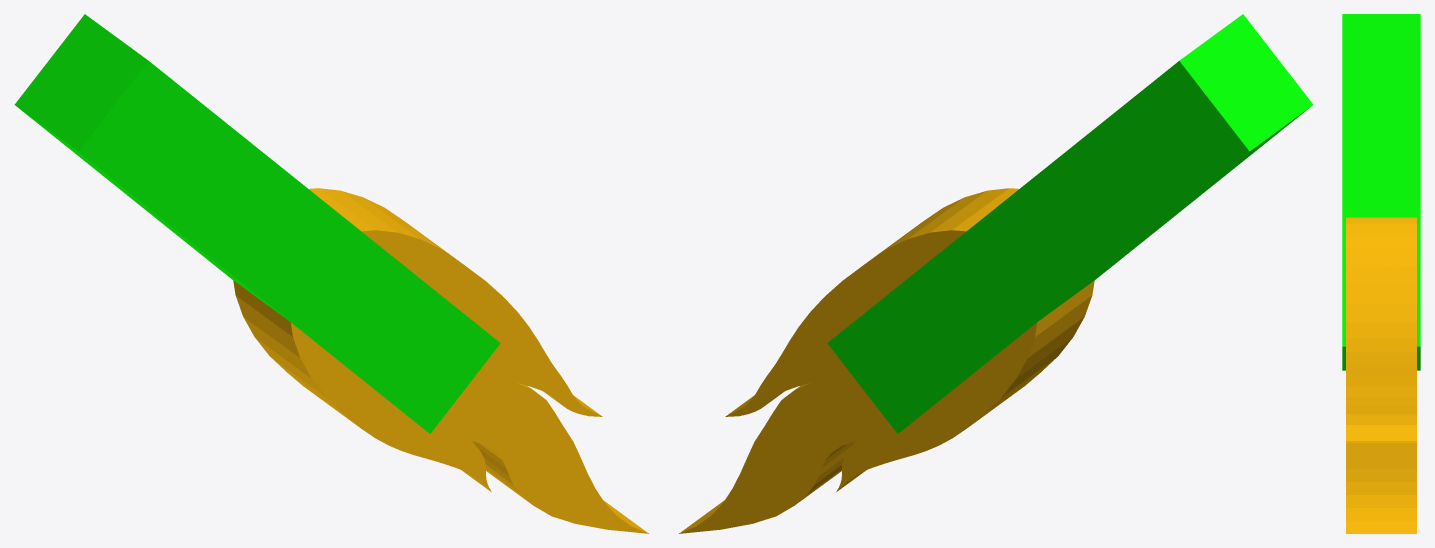
Rendered from rapidFirePowerup.fbx.
The picture shows the model from 3 angles, left to right: view 1: azimuth 30°, elevation 25°; view 2: azimuth 150°, elevation 25°; view 3: azimuth 270°, elevation 25°; orthographic projection. The views are drawn at different scales.
Parts seen in each view (by area): view 1: Cube; view 2: Cube; view 3: Cube.
Boxes of the visible parts, box(x1,y1,x2,y2) form: Cube: box(14, 14, 648, 533); Cube: box(679, 14, 1313, 533); Cube: box(1342, 14, 1420, 533).
Bounding box in the file's own units: 1.04 × 0.2 × 1.03.
